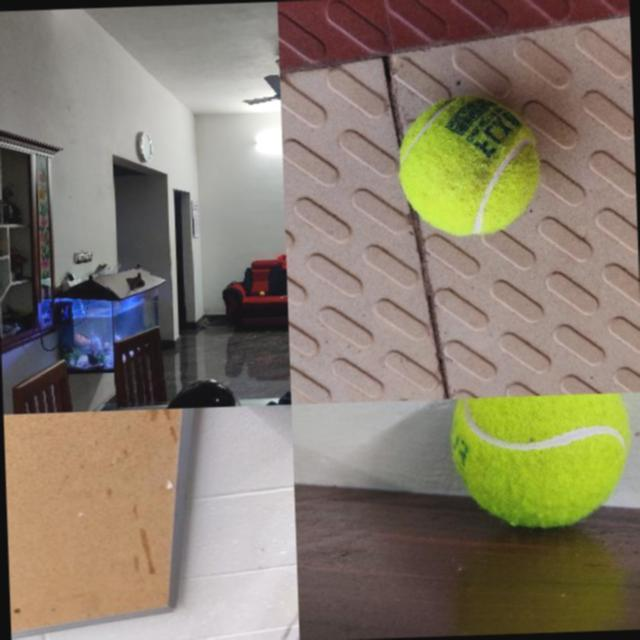Tennis Ball: (449, 392, 635, 530), (397, 93, 542, 236), (260, 291, 264, 295)
